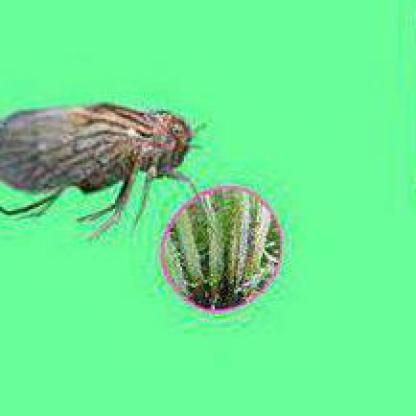brown-planthopper: (3, 99, 200, 200)
